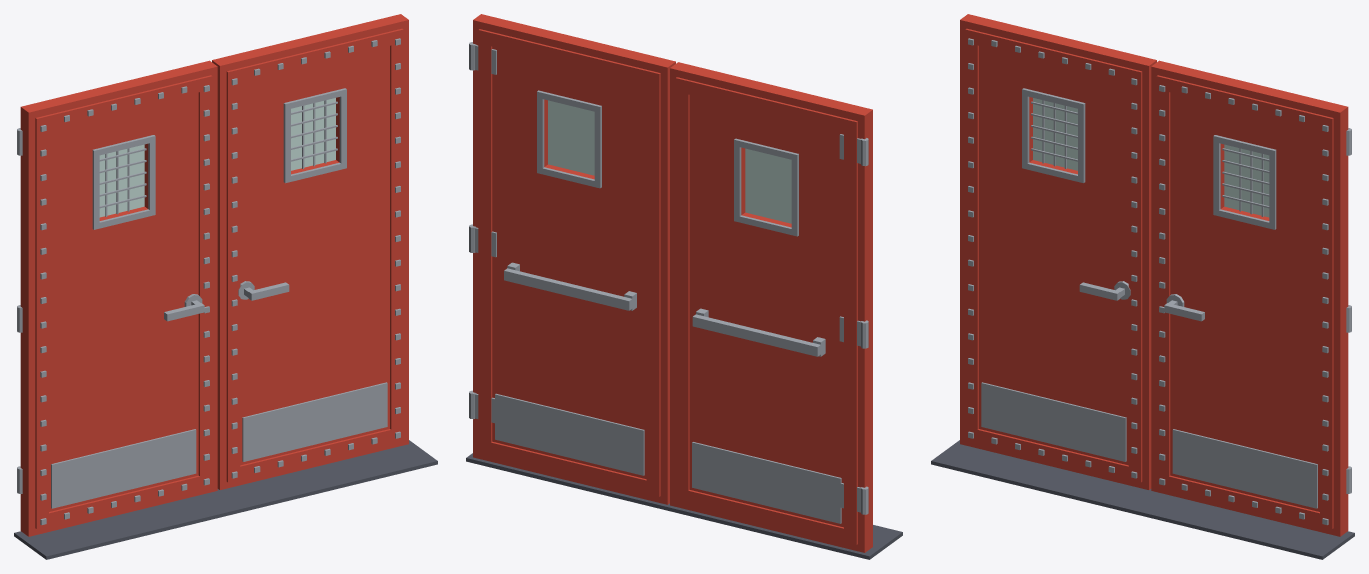
Rendered from CatCafe_Door_FireEscape_Front.glb.
3 views of the same model, side by side, from view 1: azimuth 30°, elevation 25°; view 2: azimuth 150°, elevation 25°; view 3: azimuth 330°, elevation 25° (orthographic). The views are drawn at different scales.
Parts seen in each view (by area): view 1: CatCafe_Door_FireEscape_Front_LeafR, CatCafe_Door_FireEscape_Front_LeafL, CatCafe_Door_FireEscape_Front, CatCafe_Door_FireEscape_Front_LeafR_Glass, CatCafe_Door_FireEscape_Front_LeafL_Glass; view 2: CatCafe_Door_FireEscape_Front_LeafR, CatCafe_Door_FireEscape_Front_LeafL, CatCafe_Door_FireEscape_Front, CatCafe_Door_FireEscape_Front_LeafL_Glass, CatCafe_Door_FireEscape_Front_LeafR_Glass; view 3: CatCafe_Door_FireEscape_Front_LeafL, CatCafe_Door_FireEscape_Front_LeafR, CatCafe_Door_FireEscape_Front, CatCafe_Door_FireEscape_Front_LeafL_Glass, CatCafe_Door_FireEscape_Front_LeafR_Glass.
Part boxes in pixels (bbox=[...]): CatCafe_Door_FireEscape_Front_LeafR: bbox=[17, 60, 217, 536]; CatCafe_Door_FireEscape_Front_LeafL: bbox=[212, 14, 408, 489]; CatCafe_Door_FireEscape_Front: bbox=[14, 440, 437, 559]; CatCafe_Door_FireEscape_Front_LeafR_Glass: bbox=[99, 144, 144, 217]; CatCafe_Door_FireEscape_Front_LeafL_Glass: bbox=[291, 98, 335, 170]; CatCafe_Door_FireEscape_Front_LeafR: bbox=[670, 62, 872, 552]; CatCafe_Door_FireEscape_Front_LeafL: bbox=[469, 14, 675, 504]; CatCafe_Door_FireEscape_Front: bbox=[466, 453, 902, 559]; CatCafe_Door_FireEscape_Front_LeafL_Glass: bbox=[548, 100, 594, 175]; CatCafe_Door_FireEscape_Front_LeafR_Glass: bbox=[745, 148, 791, 223]; CatCafe_Door_FireEscape_Front_LeafL: bbox=[1151, 60, 1351, 536]; CatCafe_Door_FireEscape_Front_LeafR: bbox=[960, 14, 1156, 489]; CatCafe_Door_FireEscape_Front: bbox=[931, 440, 1354, 559]; CatCafe_Door_FireEscape_Front_LeafL_Glass: bbox=[1224, 144, 1269, 217]; CatCafe_Door_FireEscape_Front_LeafR_Glass: bbox=[1033, 98, 1077, 170].
Size of the model in its own units: 7 by 7.33 by 1.21.
1 material, 1 textured.
